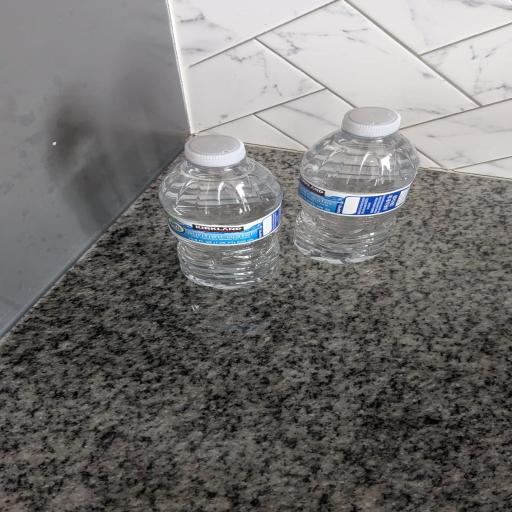waterbottle: (294, 107, 418, 263), (159, 136, 282, 288)
